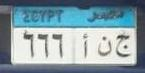6: (37, 32, 50, 59), (22, 32, 35, 58), (52, 33, 64, 58)
alif: (82, 33, 89, 60)
jeem: (113, 33, 131, 60)
noon: (96, 36, 112, 57)
